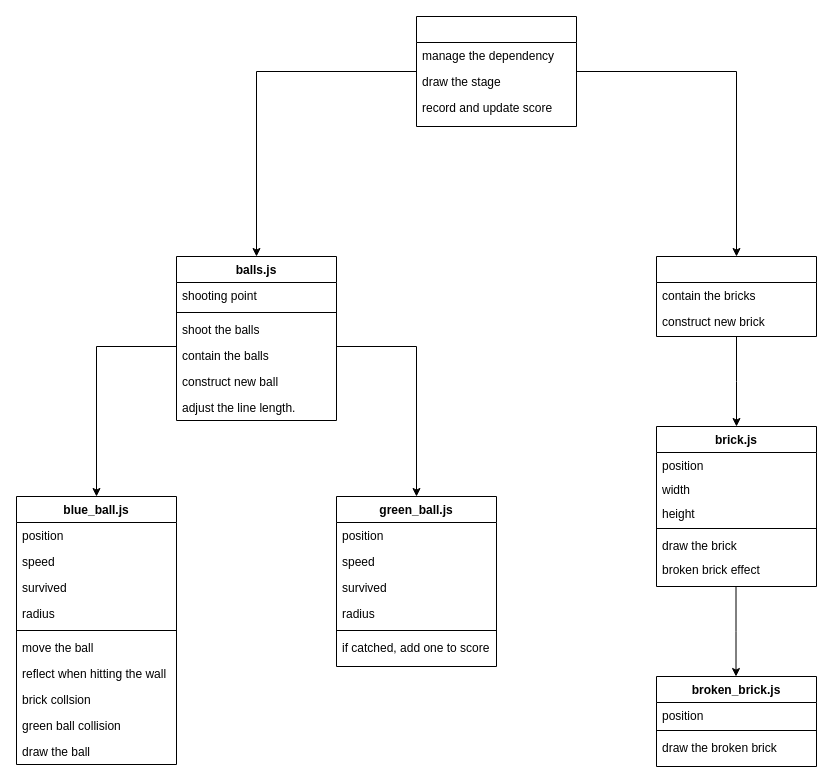
This 833x783 diagram has some shape labels left out. The box of each missing label's shape, as (x1, y1, x2, y2) in pixels:
app.js: (416, 16, 576, 126)
bricks.js: (656, 256, 816, 336)
